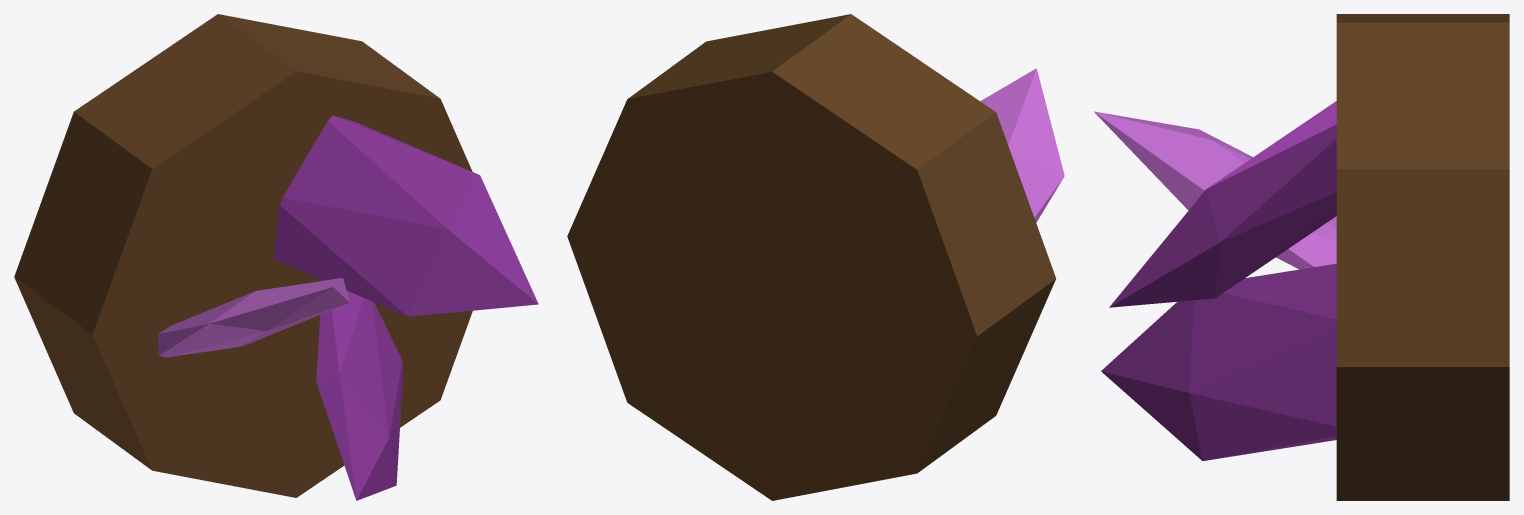
File: 1_seedling.obj
3 views of the same model, side by side, from view 1: azimuth 30°, elevation 25°; view 2: azimuth 150°, elevation 25°; view 3: azimuth 270°, elevation 25° (orthographic). The views are drawn at different scales.
Visible parts, largest first — view 1: toadflax_1_seedling; view 2: toadflax_1_seedling; view 3: toadflax_1_seedling.
Boxes of the visible parts, box(x1,y1,x2,y2) form: toadflax_1_seedling: box(14, 14, 538, 500); toadflax_1_seedling: box(567, 14, 1064, 500); toadflax_1_seedling: box(1094, 14, 1509, 500).
Bounding box in the file's own units: 0.12 × 0.12 × 0.0963.
